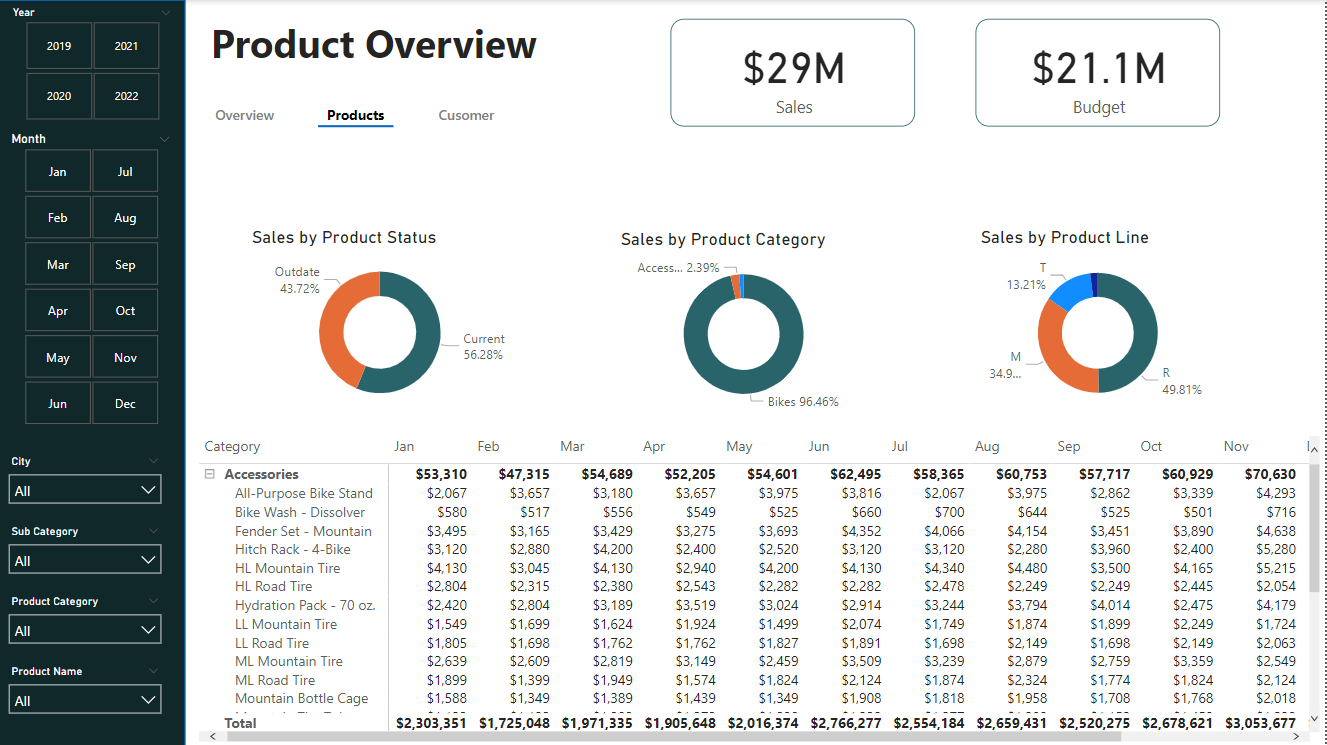

This screenshot's page, from the dashboard's own definition file:
{"tool":"powerbi","page":{"name":"Products","canvas":[1280,720],"ordinal":1},"visuals":[{"type":"textbox","box":[200.5,11,337.9,63.2],"z":0},{"type":"shape","box":[0,0,180.9,720],"z":1000},{"type":"slicer","fields":{"Values":["Customer.City"]},"box":[0,433,167.6,53.1],"z":2000},{"type":"slicer","fields":{"Values":["Product.Product Category"]},"box":[0,568,167.6,53.1],"z":3000},{"type":"slicer","fields":{"Values":["Product.Sub Category"]},"box":[0,500.5,167.6,53.1],"z":4000},{"type":"slicer","fields":{"Values":["Product.Product Name"]},"box":[0,635.6,167.6,53.1],"z":5000},{"type":"pageNavigator","box":[189.5,100.3,313.1,22],"z":6000},{"type":"shape","box":[309,108.5,72.8,26.1],"z":7000},{"type":"slicer","fields":{"Values":["Calendar.Year"]},"box":[1.2,0,178.5,121.8],"z":8000},{"type":"slicer","fields":{"Values":["Calendar.ShortMon"]},"box":[0,121.8,178.5,294.3],"z":9000},{"type":"card","fields":{"Values":["_Measures.Sales"]},"box":[648.8,18.1,236.4,103.7],"z":10000},{"type":"pivotTable","fields":{"Rows":["Product.Product Category","Product.Product Name"],"Values":["_Measures.Sales"],"Columns":["Calendar.ShortMon"]},"box":[189.3,416.1,1090.3,303.9],"z":11000},{"type":"donutChart","fields":{"Y":["_Measures.Sales"],"Category":["Product.Product Line"]},"box":[943.1,218.3,236.4,186.9],"z":12000},{"type":"donutChart","fields":{"Y":["_Measures.Sales"],"Category":["Product.Product Category"]},"box":[596.4,220.7,247.2,184.5],"z":13000},{"type":"card","fields":{"Values":["_Measures.Budget"]},"box":[943.1,18.1,236.4,103.7],"z":14000},{"type":"donutChart","fields":{"Category":["Product.Product Status"],"Y":["_Measures.Sales"]},"box":[240,218.3,256.9,185.7],"z":15000}]}

Visuals, with their boxes in screenshot pixels (x1, y1, x2, y2), scaled from the page's 1280x720 canvas onto the 1327x745 screenshot:
textbox: Rect(208, 11, 558, 77)
shape: Rect(0, 0, 188, 744)
slicer - Customer.City: Rect(0, 448, 174, 503)
slicer - Product.Product Category: Rect(0, 588, 174, 643)
slicer - Product.Sub Category: Rect(0, 518, 174, 573)
slicer - Product.Product Name: Rect(0, 658, 174, 713)
pageNavigator: Rect(196, 104, 521, 127)
shape: Rect(320, 112, 396, 139)
slicer - Calendar.Year: Rect(1, 0, 186, 126)
slicer - Calendar.ShortMon: Rect(0, 126, 185, 431)
card - _Measures.Sales: Rect(673, 19, 918, 126)
pivotTable - Product.Product Category x Product.Product Name: Rect(196, 431, 1326, 744)
donutChart - _Measures.Sales x Product.Product Line: Rect(978, 226, 1223, 419)
donutChart - _Measures.Sales x Product.Product Category: Rect(618, 228, 875, 419)
card - _Measures.Budget: Rect(978, 19, 1223, 126)
donutChart - Product.Product Status x _Measures.Sales: Rect(249, 226, 515, 418)
